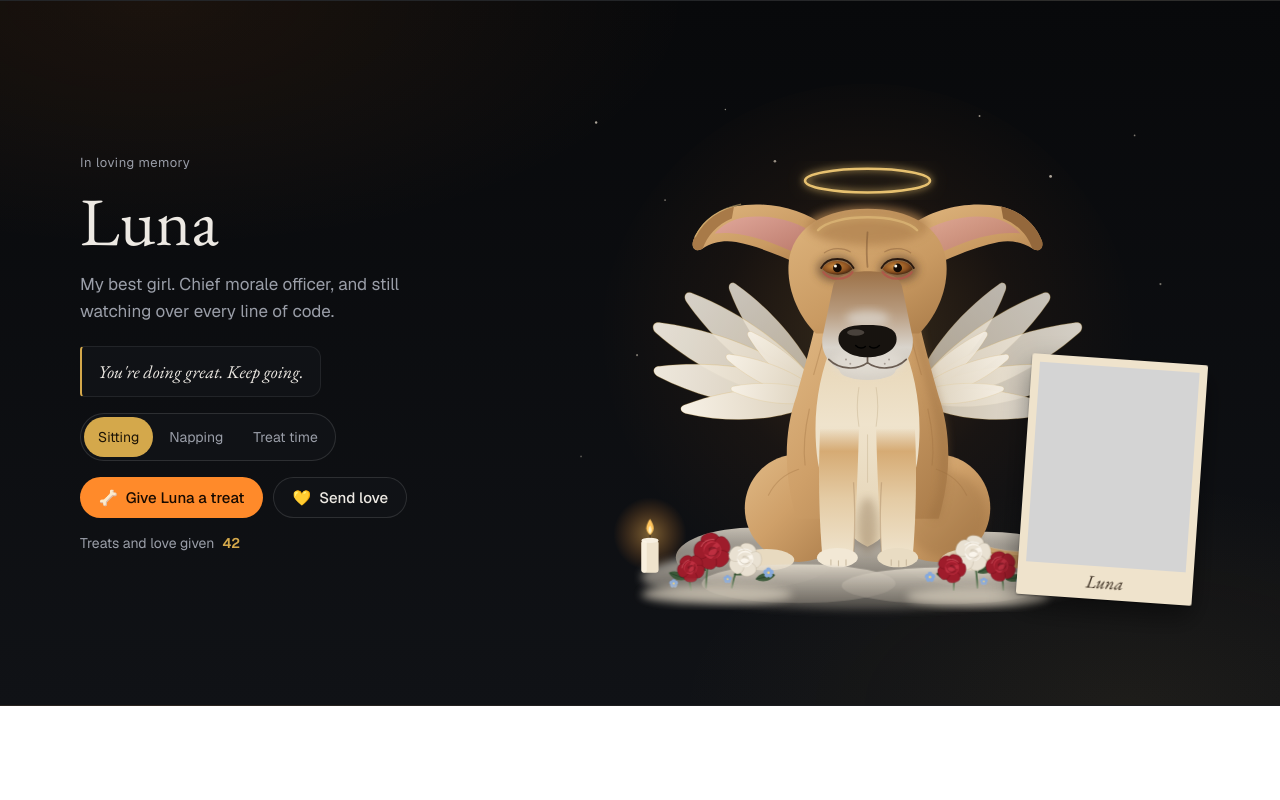
Scenario: LunaAngelScene › increments treat count and updates speech quote on treat button click
This screenshot has width=1280, height=800.
Check: the text "42" is shown, box [222,534,240,552]
Step 1. Click the button "🦴 Give Luna a treat" → (172, 497), box [80,477,263,518]
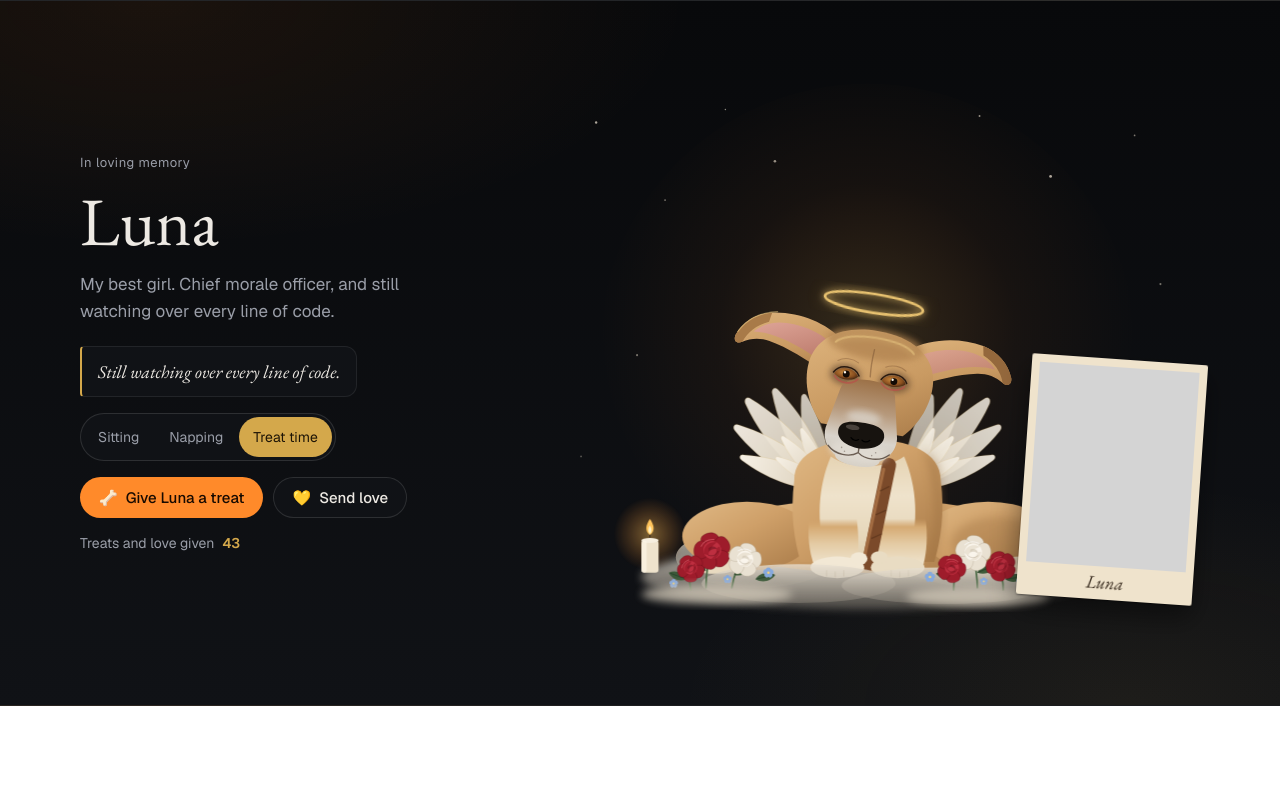
Check: the text "43" is shown, box [222,534,240,552]
